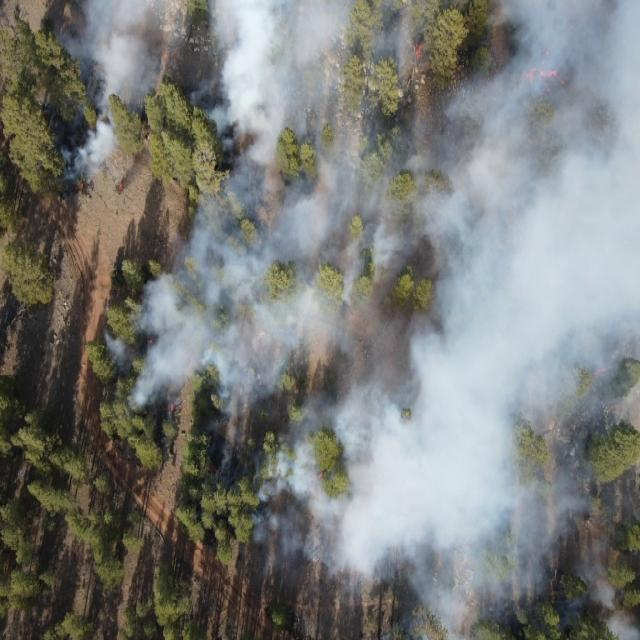fire: (525, 68, 558, 82), (590, 364, 614, 378), (413, 40, 426, 60), (73, 180, 86, 192), (558, 78, 570, 90), (315, 469, 326, 480), (115, 180, 126, 191), (168, 400, 176, 414), (146, 336, 156, 346), (515, 602, 522, 612)
smoke: (480, 0, 640, 586), (208, 3, 358, 584), (357, 97, 480, 586), (45, 0, 186, 201), (158, 203, 210, 416), (104, 280, 158, 409), (410, 587, 539, 640), (367, 0, 436, 96), (586, 587, 639, 640), (546, 596, 584, 636), (450, 73, 480, 97), (190, 81, 207, 108)
